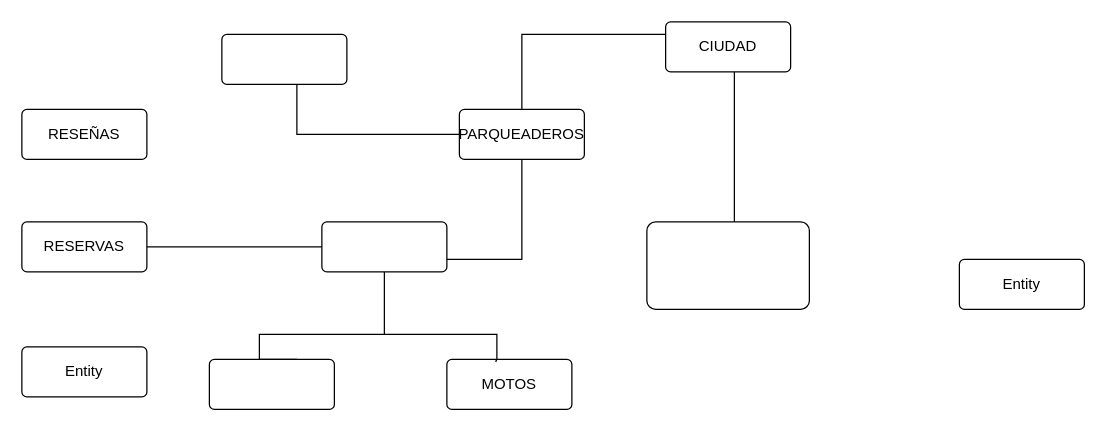
The diagram is 1106 pixels wide and 431 high, and some of its shapes have lost their labels. Each missing label, with the centre of its shape:
CARROS: point 271,383
CELDAS: point 284,58
ON-PARKING: point 727,265
USUARIOS: point 384,246
